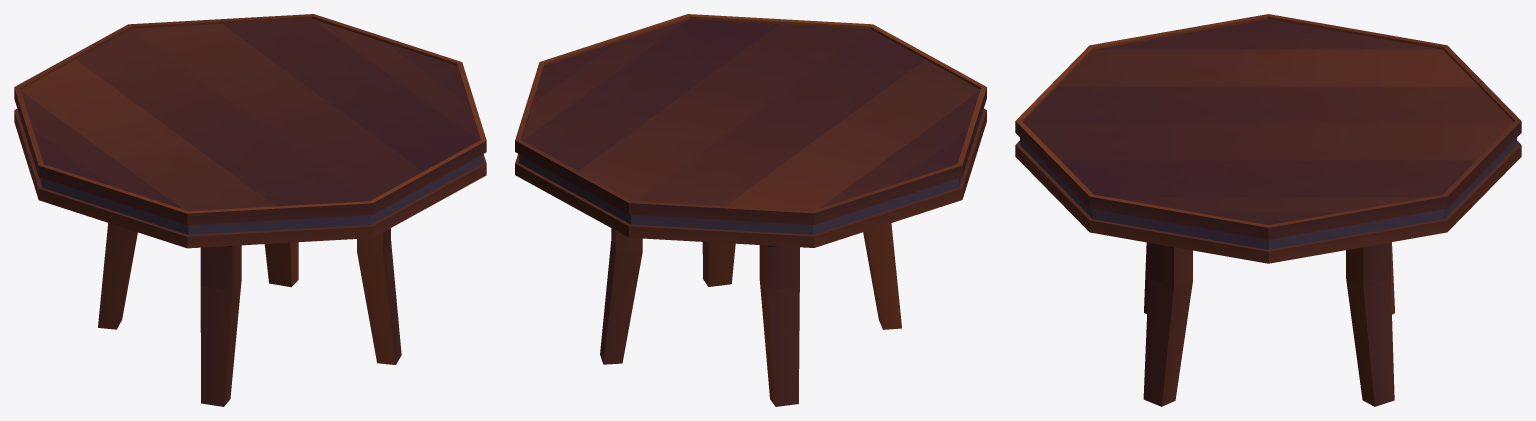
Rendered from Prop_Table_Wood.fbx.
3 views of the same model, side by side, from view 1: azimuth 30°, elevation 25°; view 2: azimuth 150°, elevation 25°; view 3: azimuth 270°, elevation 25° (orthographic). The views are drawn at different scales.
Parts seen in each view (by area): view 1: Table_Round; view 2: Table_Round; view 3: Table_Round.
Boxes of the visible parts, box(x1,y1,x2,y2) form: Table_Round: box(14, 14, 486, 406); Table_Round: box(515, 14, 986, 406); Table_Round: box(1015, 14, 1521, 406).
Size of the model in its own units: 106 by 54.49 by 106.
